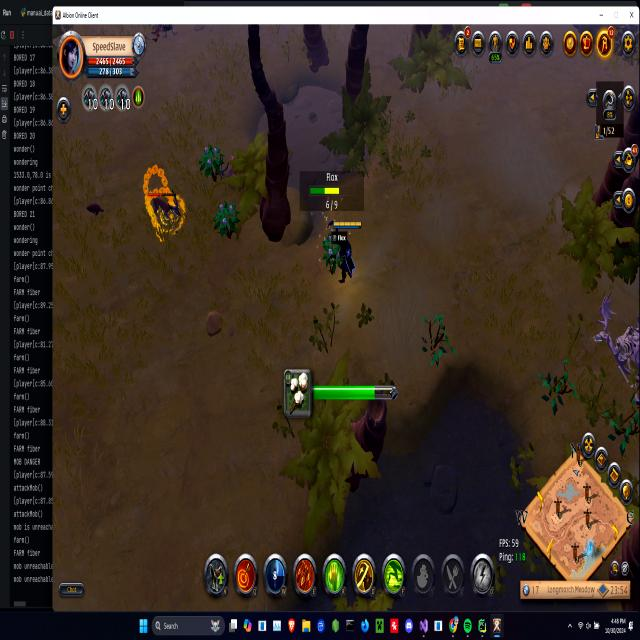hide: (214, 197, 240, 242), (200, 142, 223, 182), (322, 230, 341, 272)
ore: (143, 185, 182, 236)
red: (333, 216, 361, 284)
